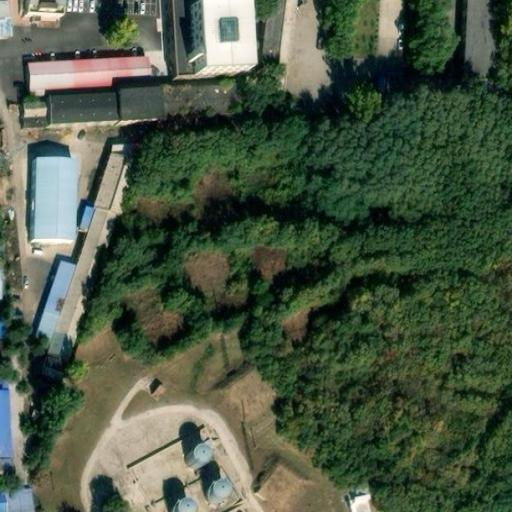building: (26, 258, 87, 359), (26, 59, 148, 99), (180, 1, 241, 76), (28, 157, 69, 240), (459, 0, 497, 81), (86, 156, 127, 217), (152, 91, 232, 120), (42, 96, 113, 128), (74, 208, 110, 270), (112, 94, 153, 131), (180, 436, 216, 470), (200, 472, 234, 505), (20, 98, 43, 128), (348, 488, 373, 512), (0, 389, 7, 459), (172, 494, 195, 512)
